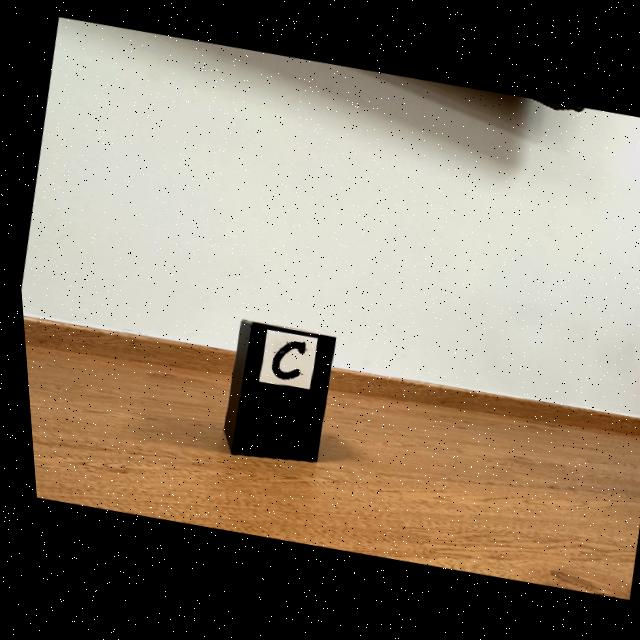C: (265, 344, 300, 382)
